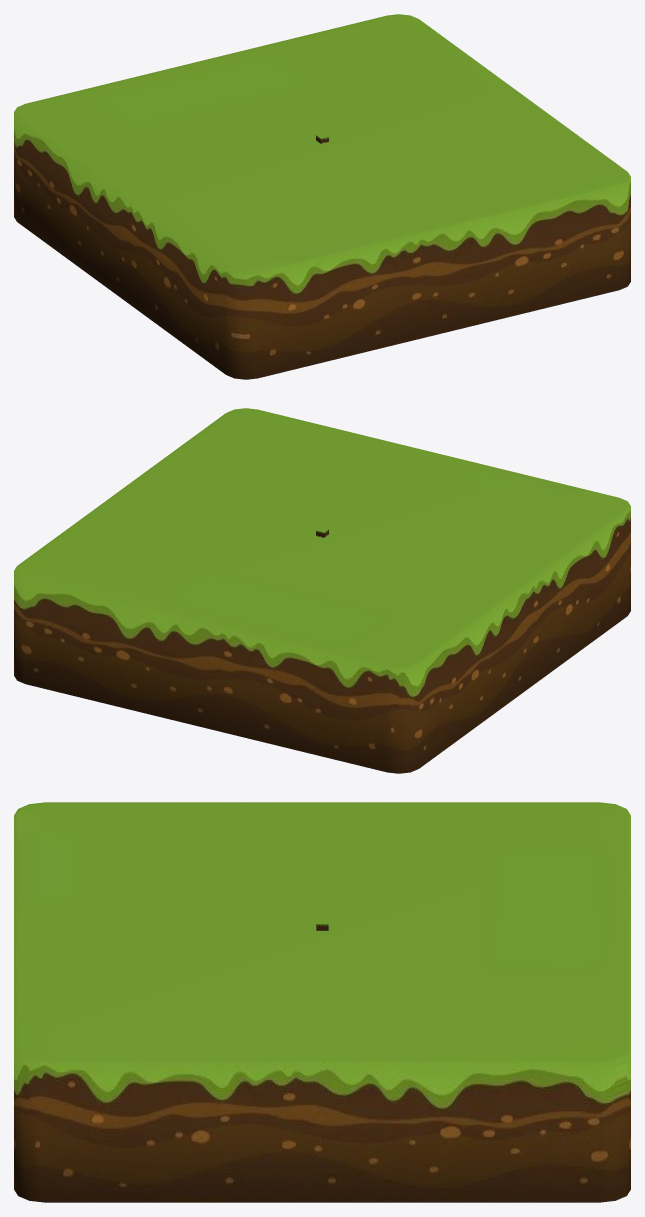
File: _SilkyWoods_dat.fbx
3 views of the same model, one above another, from view 1: azimuth 30°, elevation 25°; view 2: azimuth 150°, elevation 25°; view 3: azimuth 270°, elevation 25° (orthographic). The views are drawn at different scales.
Parts seen in each view (by area): view 1: dat; view 2: dat; view 3: dat.
Boxes of the visible parts, x1,y1,x2,y2 form: dat: [14, 14, 630, 379]; dat: [14, 408, 630, 773]; dat: [14, 802, 630, 1202].
Bounding box in the file's own units: 10000 × 2698 × 10000.
1 material, 1 textured.
